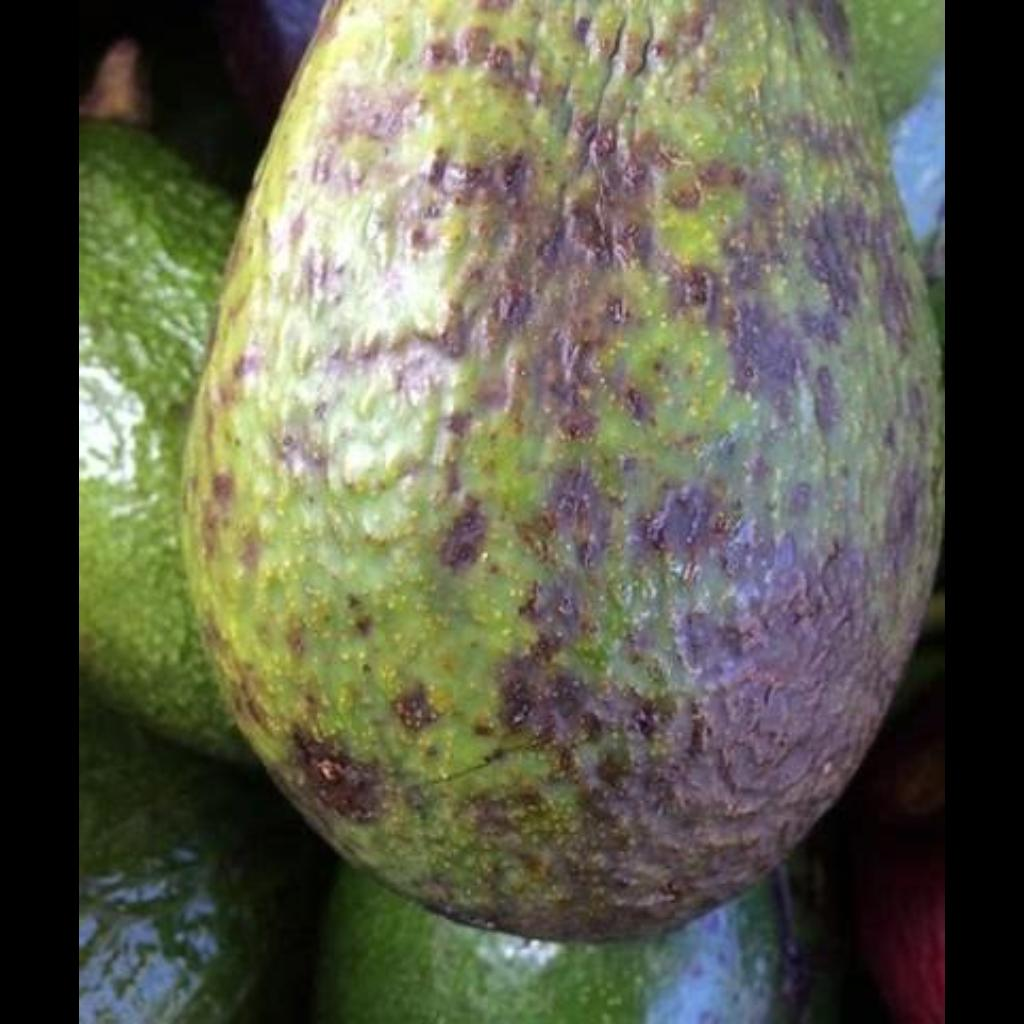antracnosis_fruto: (196, 14, 910, 917)
